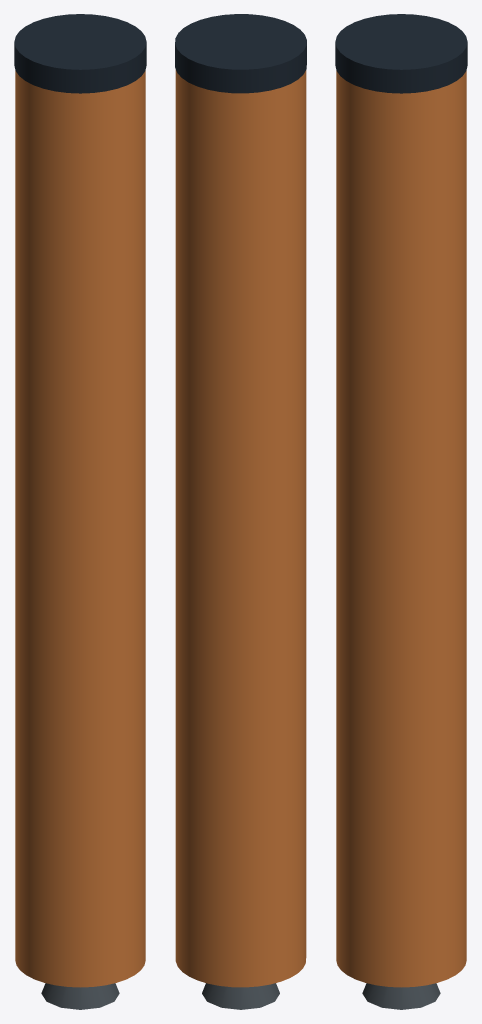
Rendered from sls-stage-1.glb.
3 renders of one model, left to right at view 1: azimuth 90°, elevation 25°; view 2: azimuth 150°, elevation 25°; view 3: azimuth 270°, elevation 25°, orthographic.
Parts seen in each view (by area): view 1: body-0, interstage-0, engine-0-0; view 2: body-0, interstage-0, engine-0-0; view 3: body-0, interstage-0, engine-0-0.
Boxes of the visible parts, <box> form: body-0: <box>15,70,145,987</box>; interstage-0: <box>14,14,146,93</box>; engine-0-0: <box>41,983,119,1009</box>; body-0: <box>175,69,306,987</box>; interstage-0: <box>175,14,306,93</box>; engine-0-0: <box>202,983,279,1009</box>; body-0: <box>336,70,466,987</box>; interstage-0: <box>335,14,467,93</box>; engine-0-0: <box>362,983,440,1009</box>.
Size of the model in its own units: 8.5 by 67.5 by 8.5.
